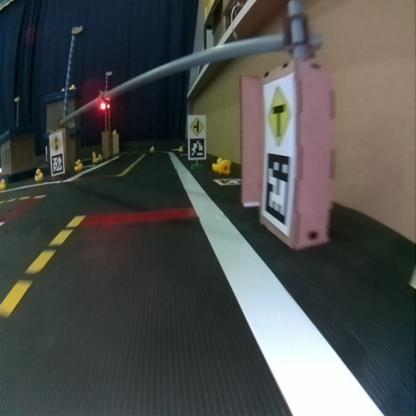Duckie: (219, 160, 230, 172), (212, 157, 222, 170), (34, 168, 42, 181), (73, 162, 80, 169), (178, 145, 184, 153), (150, 144, 155, 152), (92, 155, 98, 159)
Intersection sign: (264, 82, 292, 140), (188, 116, 205, 136)
QR code: (188, 137, 204, 158), (50, 154, 63, 174), (213, 178, 241, 186)
Signal sign: (49, 134, 63, 152)
Traffic light: (99, 98, 110, 109)
